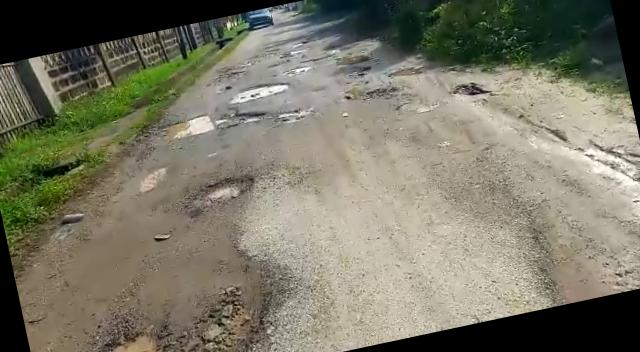pothole: (70, 279, 294, 352), (161, 102, 265, 142), (182, 168, 259, 212), (232, 76, 292, 103), (275, 106, 315, 125), (223, 66, 251, 80)
